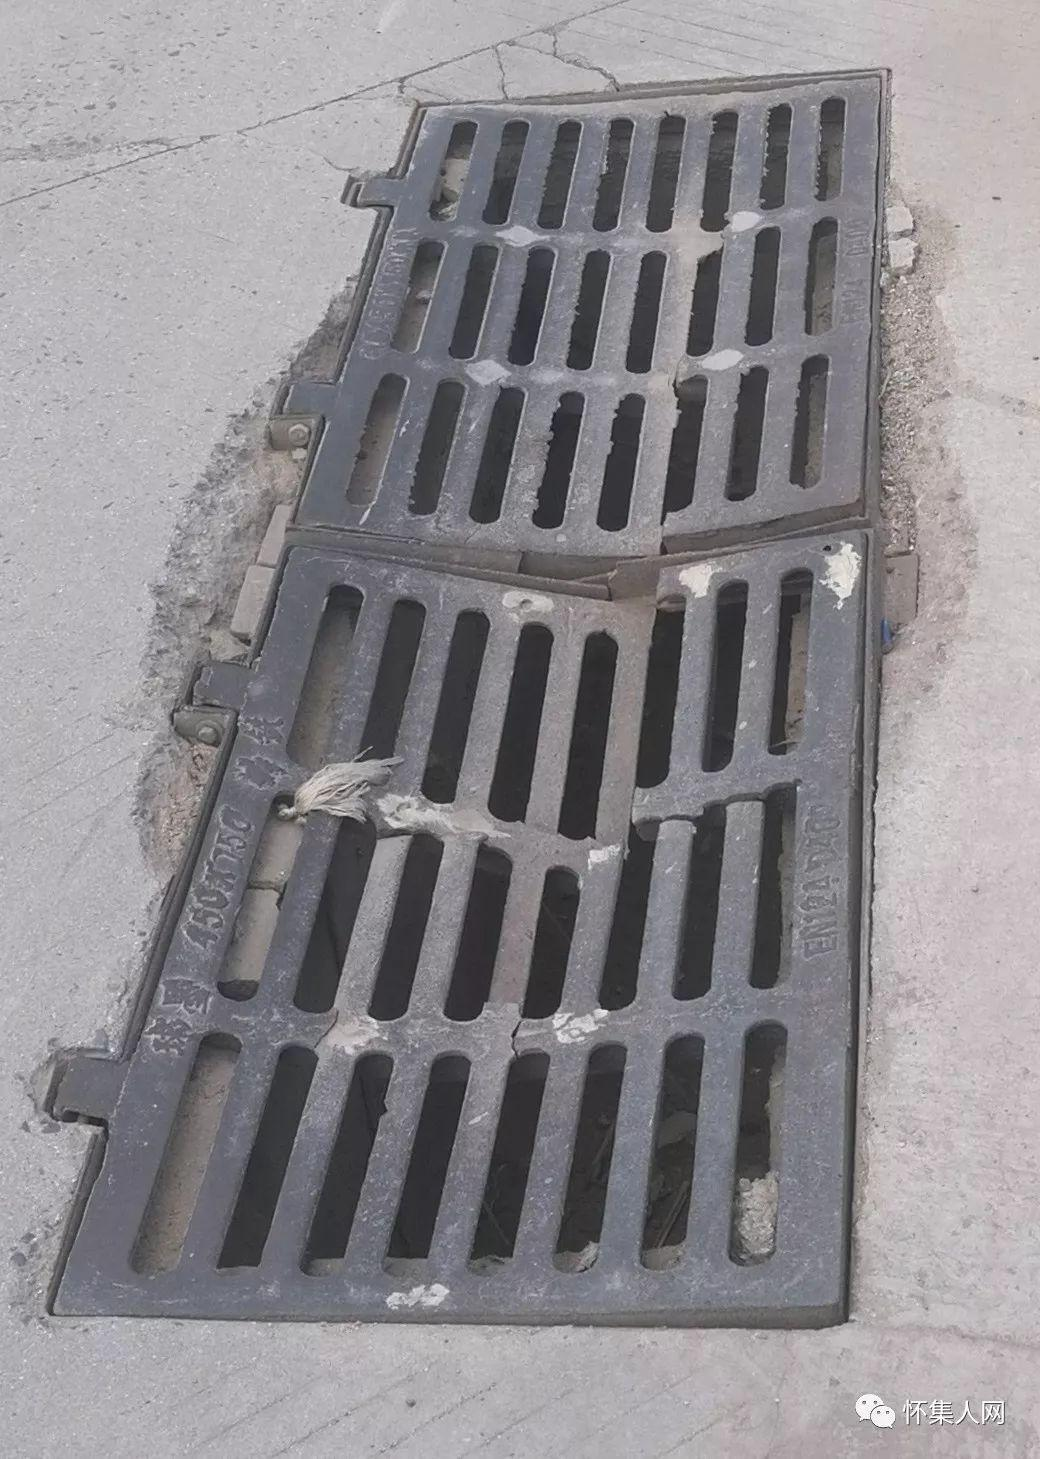wellcover: (19, 1, 923, 1424)
